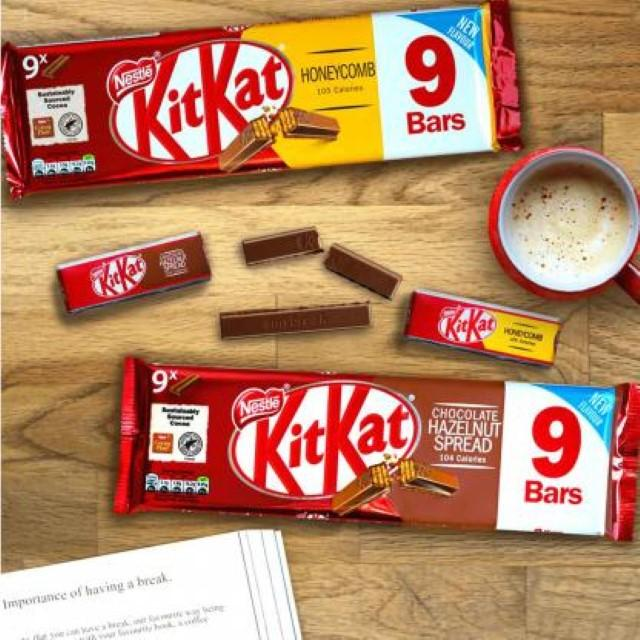kitkat_chocolate: (133, 358, 640, 558), (18, 0, 533, 171), (412, 285, 553, 367), (65, 233, 205, 310)
